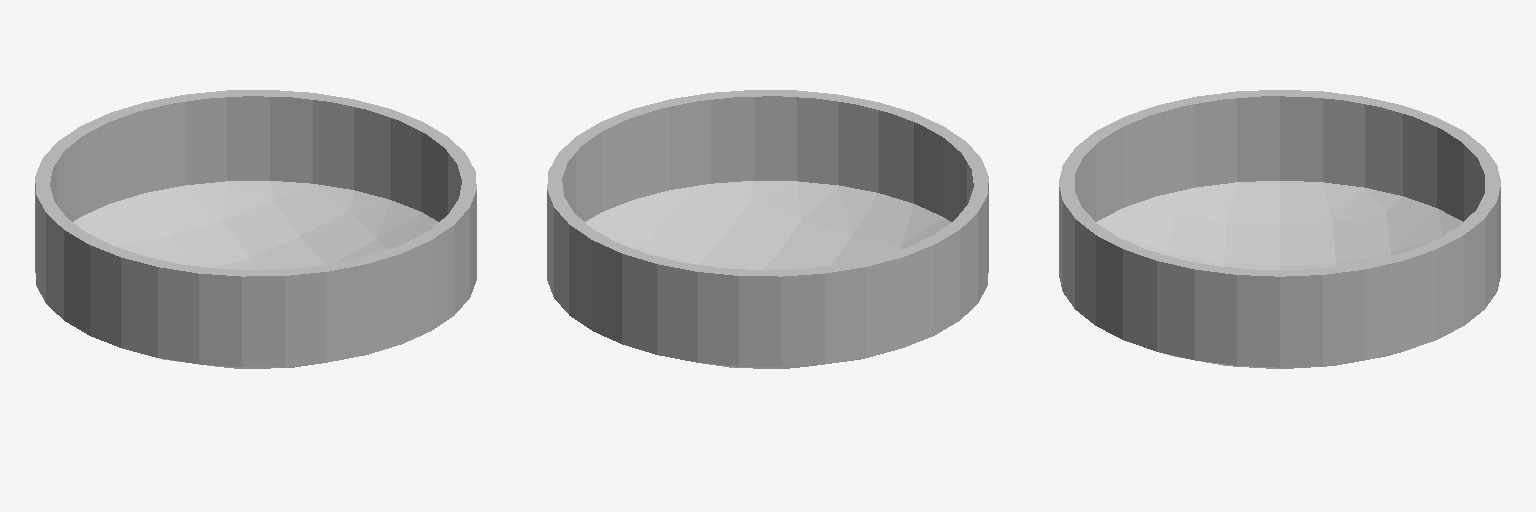
Rendered from a2_cut_0__6_1.obj.
3 views of the same model, side by side, from view 1: azimuth 30°, elevation 25°; view 2: azimuth 150°, elevation 25°; view 3: azimuth 270°, elevation 25° (orthographic).
Visible parts, largest first — view 1: 0; view 2: 0; view 3: 0.
Part boxes in pixels (left/top/right/bottom): 0: left=35, top=90, right=476, bottom=368; 0: left=547, top=90, right=988, bottom=368; 0: left=1059, top=90, right=1500, bottom=368.
Bounding box in the file's own units: 57.88 × 21 × 57.88.